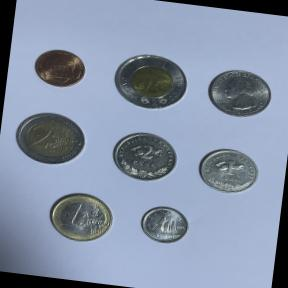coin: (107, 47, 194, 118), (7, 106, 92, 172), (40, 186, 120, 250), (106, 126, 184, 190), (200, 64, 278, 124), (29, 43, 92, 94), (134, 200, 194, 250)
